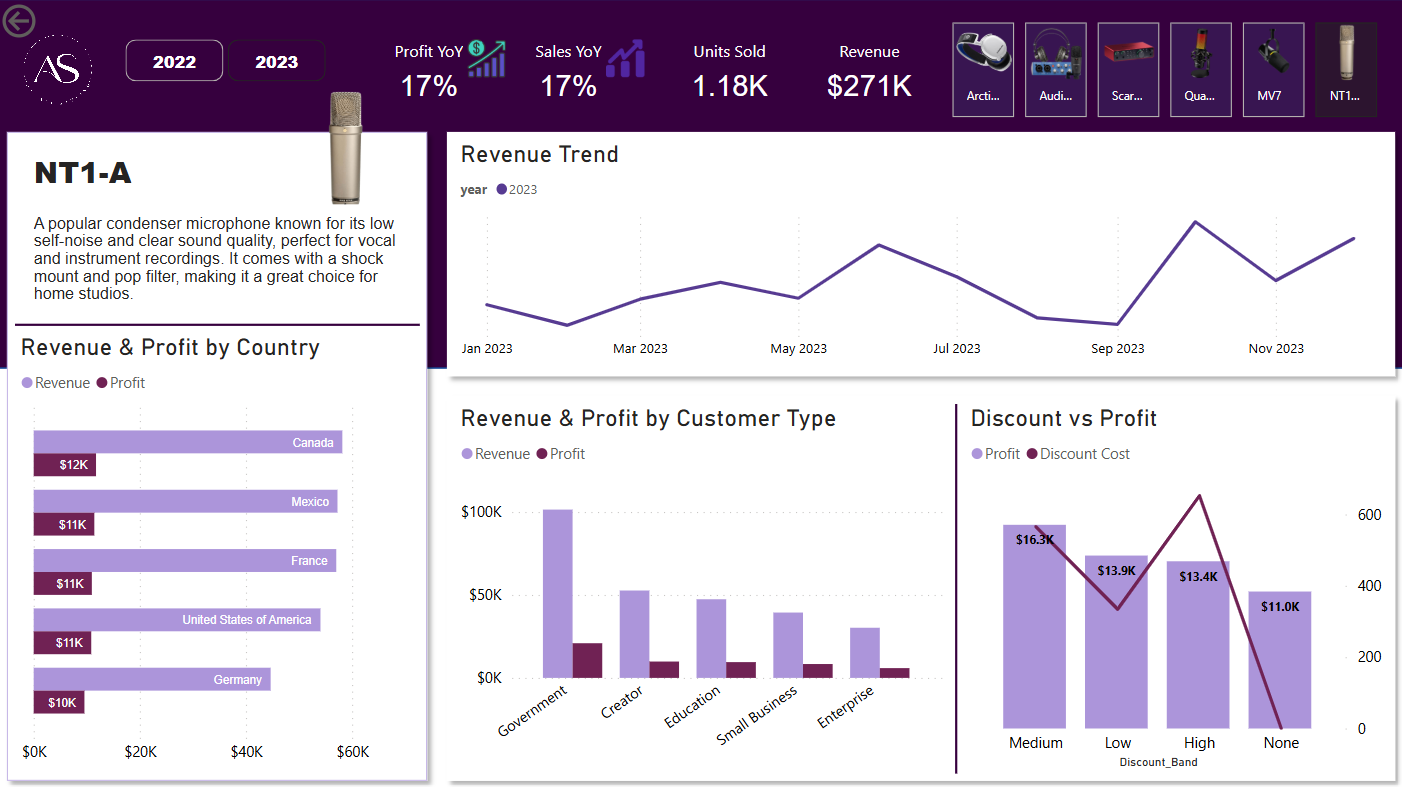

The dashboard page shown, as its layout file describes it:
{"tool":"powerbi","page":{"name":"Duplicate of Page 1","canvas":[1280,720],"ordinal":2},"visuals":[{"type":"shape","box":[0,0,1280,336],"z":0},{"type":"shape","box":[0,112,400,608],"z":1000},{"type":"shape","box":[400,112,880,240],"z":2000},{"type":"shape","box":[400,352,880,368],"z":3000},{"type":"image","box":[0,0,112,128],"z":4000},{"type":"advancedSlicerVisual","fields":{"Values":["Query1.Image_url"]},"box":[864,16,400,96],"z":5000},{"type":"cardVisual","fields":{"Data":["Min(Query1.Product)"]},"box":[240,64,176,128],"z":6000},{"type":"cardVisual","fields":{"Data":["Min(Query1.Description)"]},"box":[16,112,368,240],"z":7000},{"type":"cardVisual","fields":{"Data":["Min(Query1.Product)"]},"box":[16,112,256,80],"z":8000},{"type":"clusteredBarChart","title":"Revenue & Profit by Country","fields":{"Category":["Query1.country"],"Y":["Sum(Query1.Revenue)","Sum(Query1.Profit)"]},"box":[16,304,368,400],"z":9000},{"type":"lineChart","title":"Revenue Trend","fields":{"Category":["Query1.Corrected_Date"],"Y":["Sum(Query1.Revenue)"],"Series":["Query1.year"]},"box":[416,128,848,208],"z":10000},{"type":"clusteredColumnChart","title":"Revenue & Profit by Customer Type ","fields":{"Category":["Query1.Customer_Type"],"Y":["Sum(Query1.Revenue)","Sum(Query1.Profit)"]},"box":[416,368,448,336],"z":11000},{"type":"shape","box":[832,368,64,336],"z":12000},{"type":"advancedSlicerVisual","fields":{"Values":["Calendar.Date.Variation.Date Hierarchy.Year"]},"box":[112,32,192,48],"z":13000},{"type":"cardVisual","fields":{"Data":["Query1.Profit YoY","Query1.Sales YoY","Sum(Query1.Units_Sold)","Sum(Query1.Revenue)"]},"box":[344,16,520,96],"z":14000},{"type":"actionButton","box":[0,0,100,40],"z":15000},{"type":"shape","box":[16,256,368,80],"z":16000},{"type":"lineStackedColumnComboChart","title":"Discount vs Profit","fields":{"Category":["Query1.Discount_Band"],"Y":["Sum(Query1.Profit)"],"Y2":["Sum(Query1.Discount_Amount)"]},"box":[880,368,384,336],"z":17000}]}

Visuals, with their boxes in screenshot pixels (x1, y1, x2, y2), scaled from the page's 1280x720 canvas onto the 1402x787 screenshot:
shape: Rect(0, 0, 1401, 367)
shape: Rect(0, 122, 438, 786)
shape: Rect(438, 122, 1401, 385)
shape: Rect(438, 385, 1401, 786)
image: Rect(0, 0, 123, 140)
advancedSlicerVisual - Query1.Image_url: Rect(946, 17, 1384, 122)
cardVisual - Min(Query1.Product): Rect(263, 70, 456, 210)
cardVisual - Min(Query1.Description): Rect(18, 122, 421, 385)
cardVisual - Min(Query1.Product): Rect(18, 122, 298, 210)
"Revenue & Profit by Country" clusteredBarChart: Rect(18, 332, 421, 770)
"Revenue Trend" lineChart: Rect(456, 140, 1384, 367)
"Revenue & Profit by Customer Type " clusteredColumnChart: Rect(456, 402, 946, 770)
shape: Rect(911, 402, 981, 770)
advancedSlicerVisual - Calendar.Date.Variation.Date Hierarchy.Year: Rect(123, 35, 333, 87)
cardVisual - Query1.Profit YoY x Query1.Sales YoY: Rect(377, 17, 946, 122)
actionButton: Rect(0, 0, 110, 44)
shape: Rect(18, 280, 421, 367)
"Discount vs Profit" lineStackedColumnComboChart: Rect(964, 402, 1384, 770)
